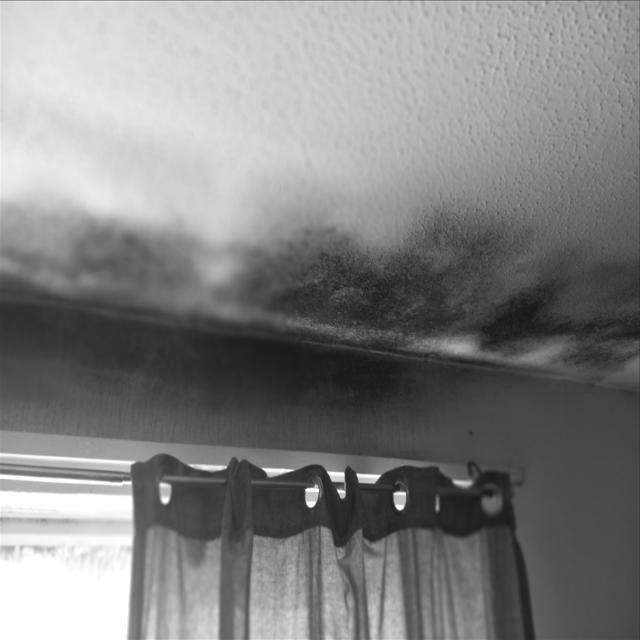stain marks: (0, 177, 640, 443)
